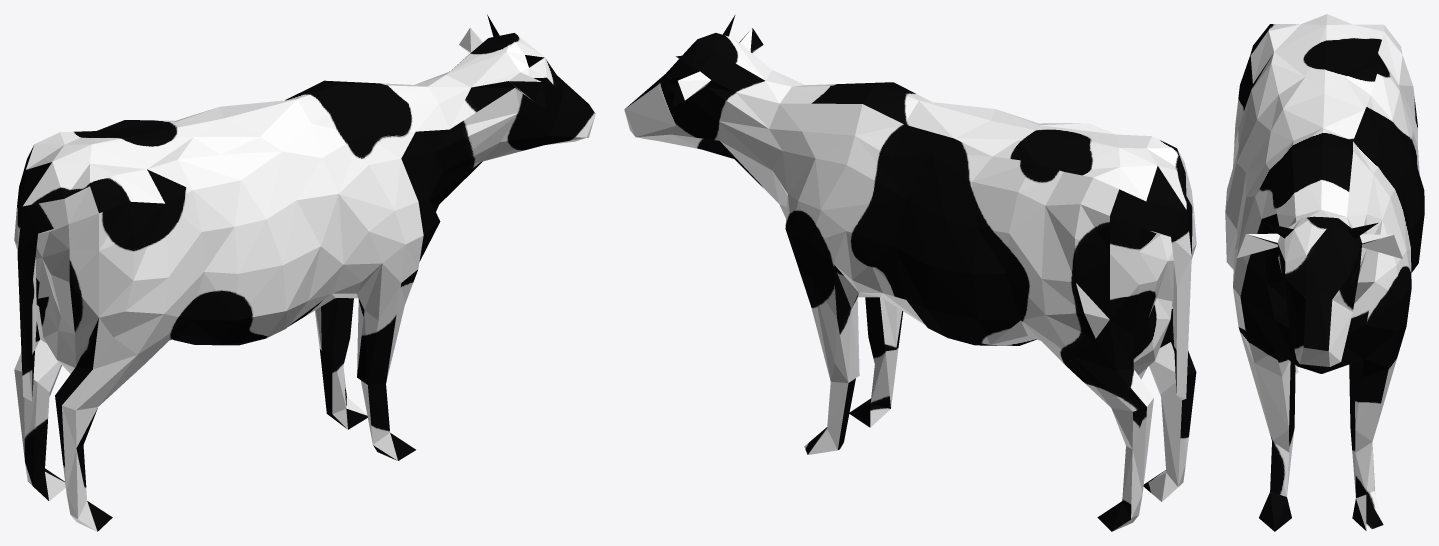
The model's file is cow.fbx.
3 renders of one model, left to right at view 1: azimuth 30°, elevation 25°; view 2: azimuth 150°, elevation 25°; view 3: azimuth 270°, elevation 25°, orthographic.
Visible parts, largest first — view 1: grp1; view 2: grp1; view 3: grp1.
Boxes of the visible parts, x1=… form: grp1: x1=14, y1=14, x2=595, y2=531; grp1: x1=624, y1=15, x2=1196, y2=531; grp1: x1=1225, y1=14, x2=1424, y2=531.
Bounding box in the file's own units: 1014 × 629 × 305.
